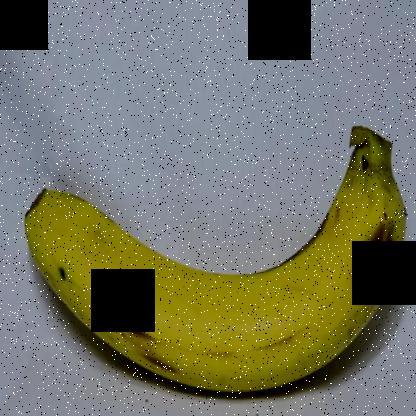freshripe: (16, 113, 414, 414)
